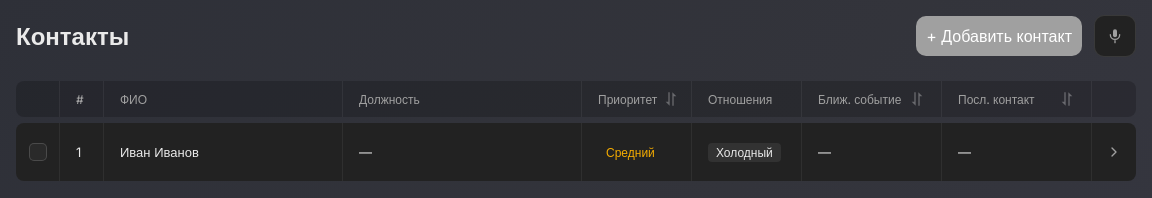
MainPage › selection and batch delete › delete button appears after selecting a contact
Click the checkbox at (38, 152), box [28,143,46,161]
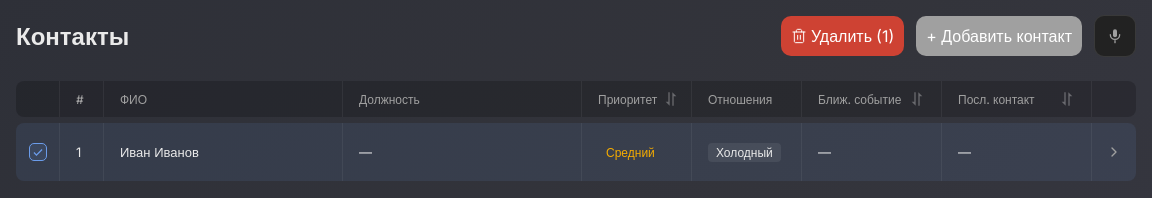
Result: the text "Удалить" is shown at [811,26,872,46]
